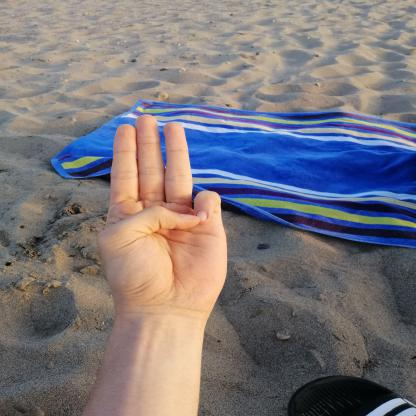THA: (87, 101, 246, 327)
